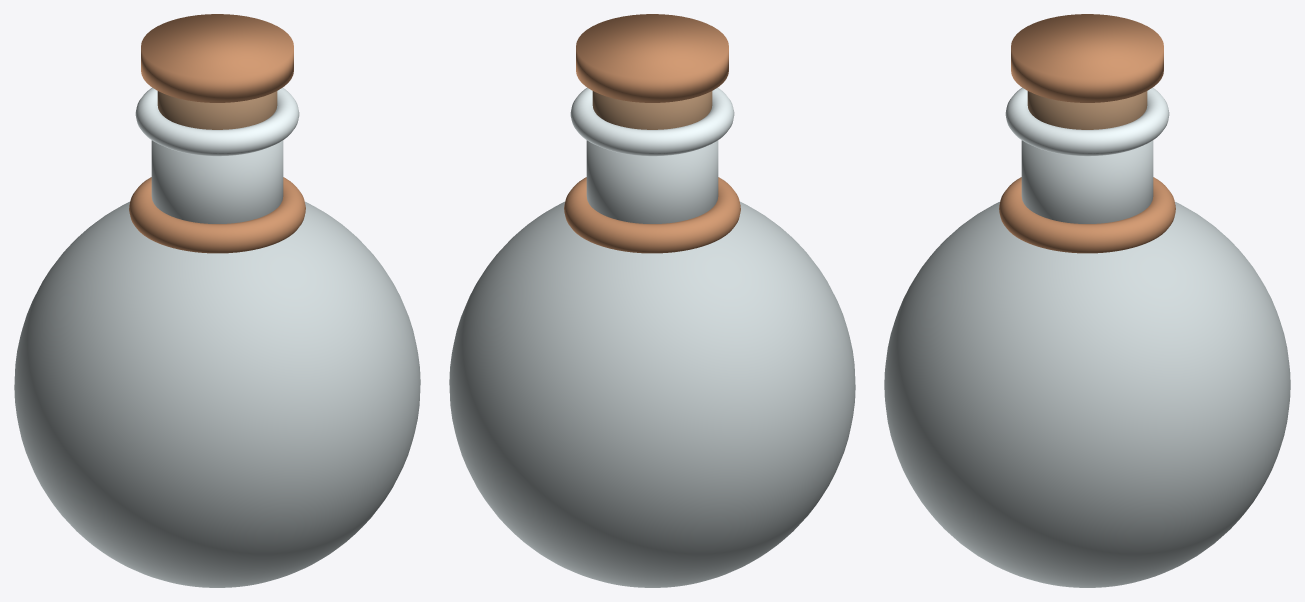
The model's file is Tiflask_v01.fbx.
3 views of the same model, side by side, from view 1: azimuth 30°, elevation 25°; view 2: azimuth 150°, elevation 25°; view 3: azimuth 270°, elevation 25° (orthographic).
Parts seen in each view (by area): view 1: Tf_Panse, Tf_Chapeau, Tf_Col, Tf_Bague, Tf_Levre, Tf_Bouchon; view 2: Tf_Panse, Tf_Chapeau, Tf_Col, Tf_Bague, Tf_Levre, Tf_Bouchon; view 3: Tf_Panse, Tf_Chapeau, Tf_Col, Tf_Bague, Tf_Levre, Tf_Bouchon.
Boxes of the visible parts, <box> form: Tf_Panse: <box>14,201,420,587</box>; Tf_Chapeau: <box>141,14,293,102</box>; Tf_Col: <box>151,140,283,223</box>; Tf_Bague: <box>129,177,305,253</box>; Tf_Levre: <box>135,87,299,156</box>; Tf_Bouchon: <box>157,91,277,129</box>; Tf_Panse: <box>449,201,855,587</box>; Tf_Chapeau: <box>576,14,728,102</box>; Tf_Col: <box>586,140,718,223</box>; Tf_Bague: <box>564,177,740,253</box>; Tf_Levre: <box>570,87,734,156</box>; Tf_Bouchon: <box>592,91,712,129</box>; Tf_Panse: <box>884,202,1290,587</box>; Tf_Chapeau: <box>1011,14,1163,102</box>; Tf_Col: <box>1021,140,1153,223</box>; Tf_Bague: <box>999,177,1175,253</box>; Tf_Levre: <box>1005,87,1169,156</box>; Tf_Bouchon: <box>1027,91,1147,129</box>.
Bounding box in the file's own units: 68 × 95.5 × 68.
